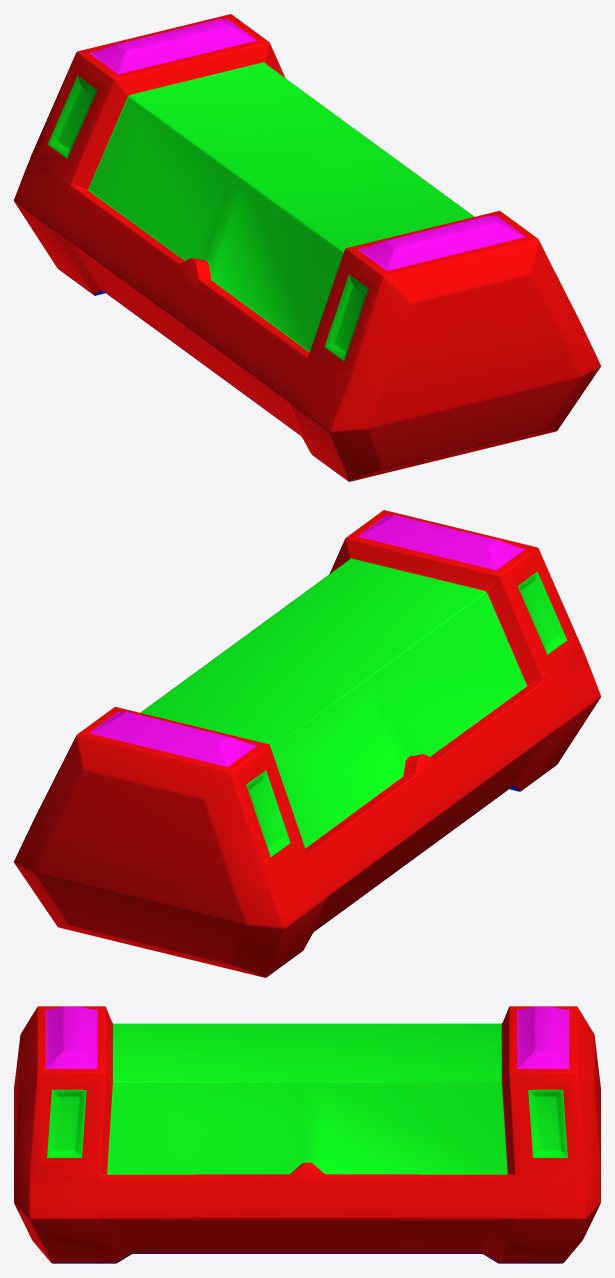
3 renders of one model, top to bottom at view 1: azimuth 30°, elevation 25°; view 2: azimuth 150°, elevation 25°; view 3: azimuth 270°, elevation 25°, orthographic. The views are drawn at different scales.
Parts seen in each view (by area): view 1: Object002; view 2: Object002; view 3: Object002.
Boxes of the visible parts, <box> form: Object002: <box>14,14,600,481</box>; Object002: <box>14,510,600,977</box>; Object002: <box>14,1006,600,1263</box>.
Size of the model in its own units: 68.64 by 52.52 by 147.
